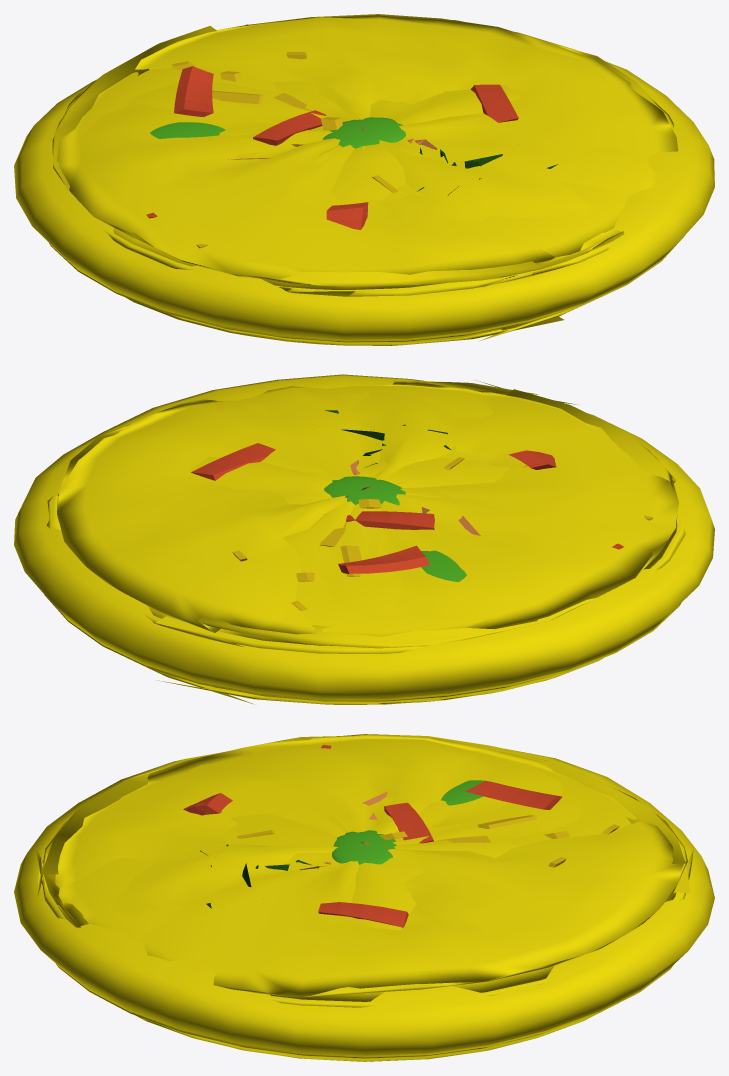
File: omletteBurnt.fbx
The picture shows the model from 3 angles, top to bottom: view 1: azimuth 30°, elevation 25°; view 2: azimuth 150°, elevation 25°; view 3: azimuth 270°, elevation 25°; orthographic projection.
Parts seen in each view (by area): view 1: eggs, spinnach, baconbits.003, baconbits, baconbits.004, spinnach.001, baconbits.002; view 2: eggs, spinnach, baconbits.003, baconbits, baconbits.004, spinnach.001, baconbits.002; view 3: eggs, spinnach, baconbits.003, baconbits.004, baconbits, baconbits.002, spinnach.001.
Part boxes in pixels (x1,y1,x2,y2): eggs: [14, 14, 714, 345]; spinnach: [322, 117, 405, 148]; baconbits.003: [174, 66, 213, 117]; baconbits: [253, 110, 326, 145]; baconbits.004: [470, 84, 518, 122]; spinnach.001: [150, 122, 225, 138]; baconbits.002: [326, 202, 368, 229]; eggs: [14, 374, 714, 704]; spinnach: [324, 476, 405, 508]; baconbits.003: [338, 545, 429, 573]; baconbits: [346, 511, 434, 529]; baconbits.004: [191, 443, 275, 480]; spinnach.001: [421, 550, 466, 581]; baconbits.002: [508, 450, 556, 469]; eggs: [14, 734, 714, 1061]; spinnach: [332, 830, 396, 864]; baconbits.003: [465, 780, 561, 809]; baconbits.004: [318, 902, 408, 927]; baconbits: [384, 802, 433, 843]; baconbits.002: [183, 793, 232, 815]; spinnach.001: [441, 780, 484, 805].
Size of the model in its own units: 386 by 77.26 by 385.
